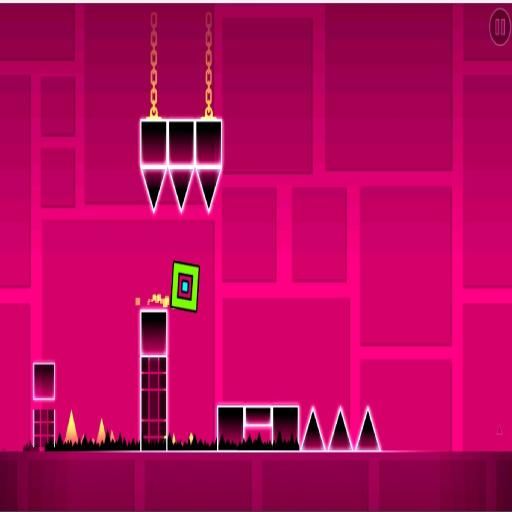block: (216, 401, 301, 454), (140, 119, 223, 169), (140, 310, 168, 450), (32, 362, 56, 402), (32, 408, 56, 448)
player: (170, 261, 199, 311)
spike: (356, 408, 380, 451), (328, 408, 352, 450), (170, 169, 193, 212), (197, 169, 220, 211), (143, 170, 165, 212), (302, 408, 324, 450), (65, 411, 78, 444), (97, 418, 105, 444), (188, 433, 194, 443), (497, 425, 502, 434), (110, 432, 115, 441), (172, 434, 175, 445)
